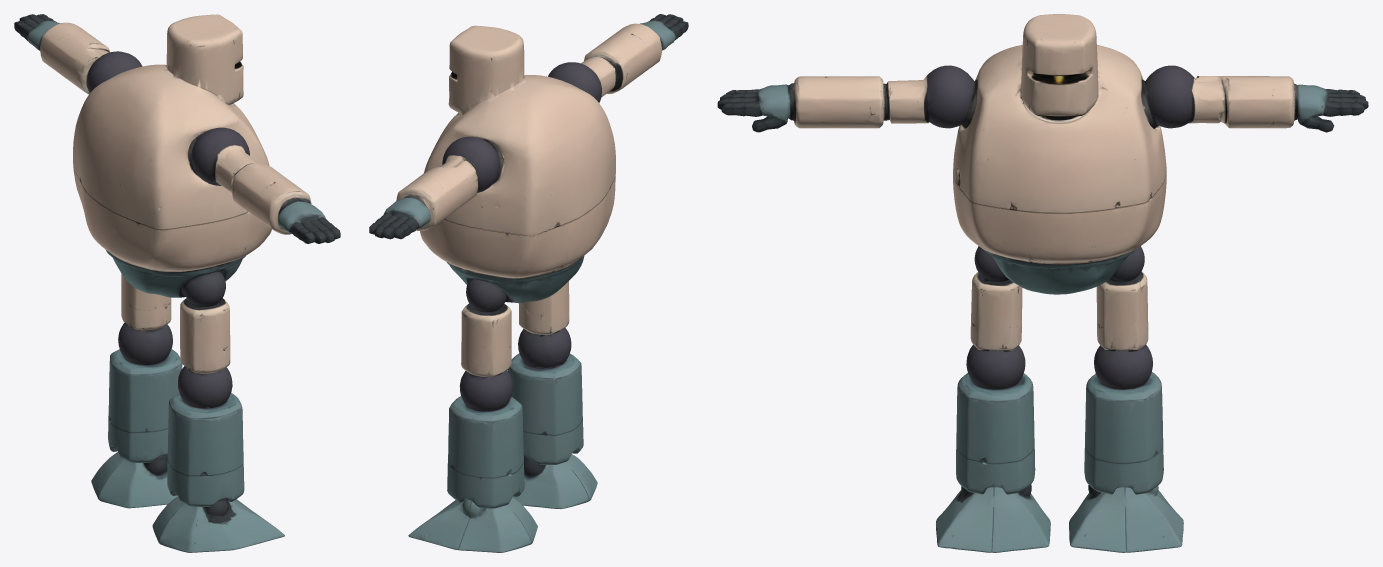
The picture shows the model from 3 angles, left to right: view 1: azimuth 30°, elevation 25°; view 2: azimuth 150°, elevation 25°; view 3: azimuth 270°, elevation 25°; orthographic projection. The views are drawn at different scales.
Visible parts, largest first — view 1: tripo_node_e57405cc-261b-456c-b831-5b2f1d6e0004; view 2: tripo_node_e57405cc-261b-456c-b831-5b2f1d6e0004; view 3: tripo_node_e57405cc-261b-456c-b831-5b2f1d6e0004.
Boxes of the visible parts, left/top/right/bottom form: tripo_node_e57405cc-261b-456c-b831-5b2f1d6e0004: left=14, top=14, right=340, bottom=552; tripo_node_e57405cc-261b-456c-b831-5b2f1d6e0004: left=369, top=14, right=688, bottom=552; tripo_node_e57405cc-261b-456c-b831-5b2f1d6e0004: left=717, top=14, right=1368, bottom=552.
Bounding box in the file's own units: 0.2926 × 0.8671 × 1.
1 material, 1 textured.
